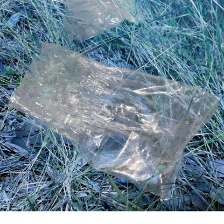plastic_bag: (5, 38, 222, 209), (60, 0, 144, 47)
